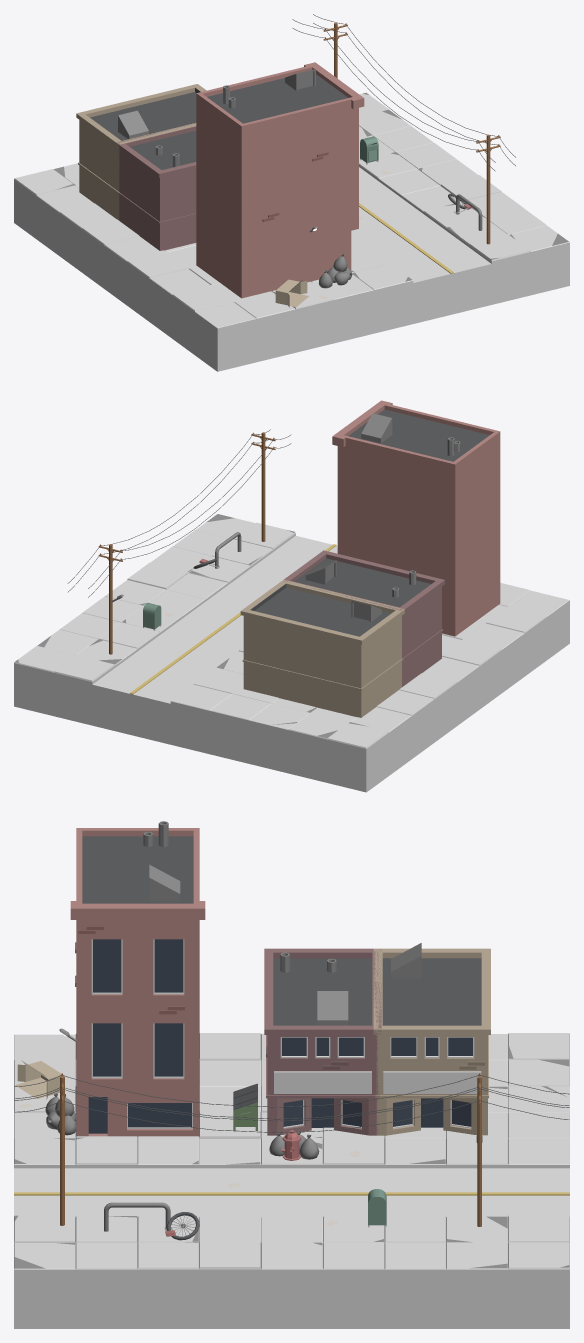
The model's file is City-scaled.glb.
3 renders of one model, top to bottom at view 1: azimuth 30°, elevation 25°; view 2: azimuth 150°, elevation 25°; view 3: azimuth 270°, elevation 25°, orthographic. The views are drawn at different scales.
Parts seen in each view (by area): view 1: Ground-Pavement, Cube.1-Tall Building Brick, Building Short Left-Building Small A, Ground-Asphalt, Building Short Right-Building Small B, Cube.1-roof, Building Short Right-roof, Building Short Left-roof, Box, Vent, Powerline Post, Cube.2-Roof iron; view 2: Ground-Pavement, Cube.1-Tall Building Brick, Building Short Right-Building Small B, Ground-Asphalt, Building Short Left-Building Small A, Building Short Right-roof, Cube.1-roof, Building Short Left-roof, Cube.2-Roof iron, Ground-Pavement Cracks, Ground-road line, Powerline Post (+1 smaller); view 3: Ground-Pavement, Ground-Asphalt, Cube.1-Tall Building Brick, Building Short Right-Building Small B, Building Short Left-Building Small A, Cube.1-Dark Windows, Cube.1-roof, Building Short Right-roof, Building Short Left-roof, Building Short Right-Dark Windows, Building Short Left-Dark Windows, Building Short Left-Window Frames (+13 smaller).
Part boxes in pixels (left/top/right/bottom): Ground-Pavement: left=14, top=93, right=569, bottom=371; Cube.1-Tall Building Brick: left=196, top=62, right=364, bottom=298; Building Short Left-Building Small A: left=116, top=123, right=196, bottom=250; Ground-Asphalt: left=351, top=167, right=490, bottom=282; Building Short Right-Building Small B: left=76, top=84, right=206, bottom=220; Cube.1-roof: left=207, top=78, right=344, bottom=123; Building Short Right-roof: left=90, top=88, right=200, bottom=140; Building Short Left-roof: left=130, top=130, right=196, bottom=169; Box: left=275, top=279, right=308, bottom=307; Vent: left=118, top=110, right=148, bottom=139; Powerline Post: left=486, top=134, right=490, bottom=244; Cube.2-Roof iron: left=285, top=69, right=315, bottom=90; Ground-Pavement: left=14, top=518, right=569, bottom=792; Cube.1-Tall Building Brick: left=332, top=400, right=500, bottom=636; Building Short Right-Building Small B: left=240, top=579, right=404, bottom=717; Ground-Asphalt: left=93, top=536, right=337, bottom=703; Building Short Left-Building Small A: left=284, top=550, right=444, bottom=686; Building Short Right-roof: left=250, top=584, right=390, bottom=636; Cube.1-roof: left=352, top=410, right=489, bottom=461; Building Short Left-roof: left=294, top=558, right=431, bottom=607; Cube.2-Roof iron: left=361, top=413, right=392, bottom=443; Ground-Pavement Cracks: left=15, top=514, right=366, bottom=738; Ground-road line: left=130, top=544, right=336, bottom=694; Powerline Post: left=261, top=432, right=265, bottom=541; Ground-Pavement: left=14, top=1033, right=569, bottom=1328; Ground-Asphalt: left=14, top=1165, right=569, bottom=1217; Cube.1-Tall Building Brick: left=70, top=828, right=205, bottom=1136; Building Short Right-Building Small B: left=373, top=948, right=490, bottom=1135; Building Short Left-Building Small A: left=264, top=948, right=381, bottom=1135; Cube.1-Dark Windows: left=88, top=939, right=191, bottom=1133; Cube.1-roof: left=82, top=836, right=193, bottom=903; Building Short Right-roof: left=382, top=958, right=481, bottom=1025; Building Short Left-roof: left=273, top=958, right=372, bottom=1025; Building Short Right-Dark Windows: left=391, top=1037, right=472, bottom=1127; Building Short Left-Dark Windows: left=282, top=1037, right=363, bottom=1127; Building Short Left-Window Frames: left=274, top=1071, right=371, bottom=1093.
Size of the model in its own units: 360 by 225 by 360.
